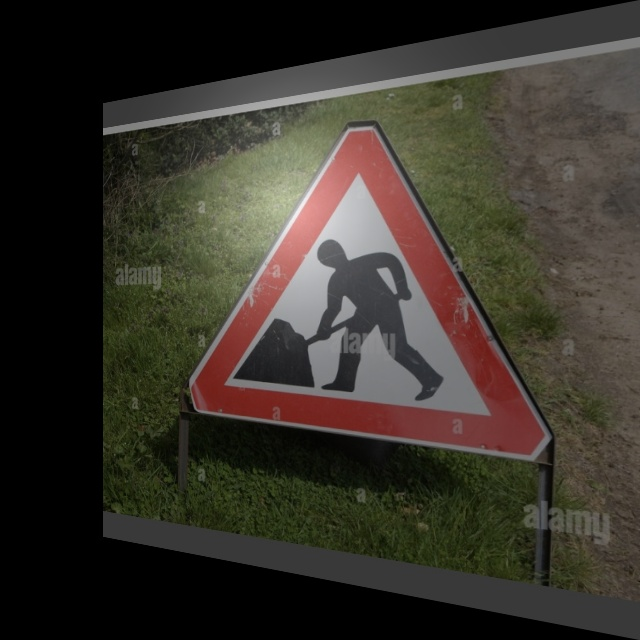Men_at_Work: (183, 93, 566, 463)
